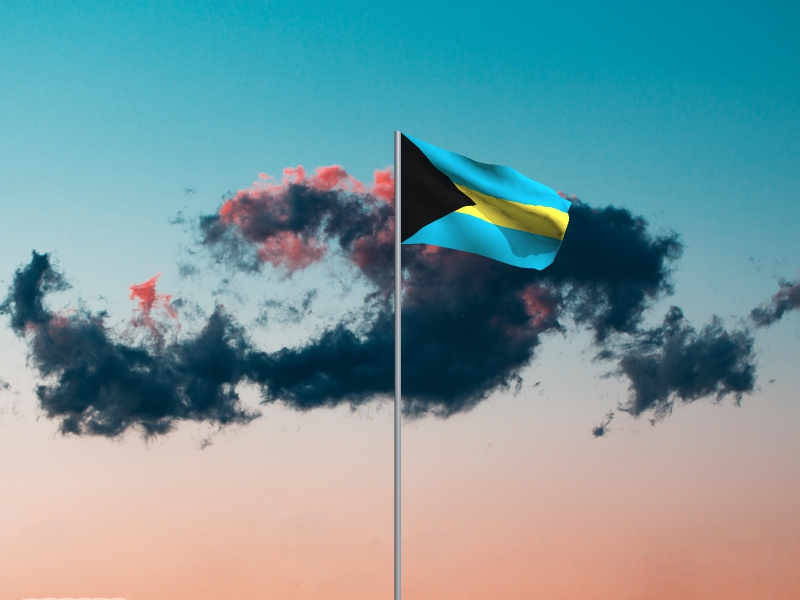bs: (402, 133, 573, 273)
